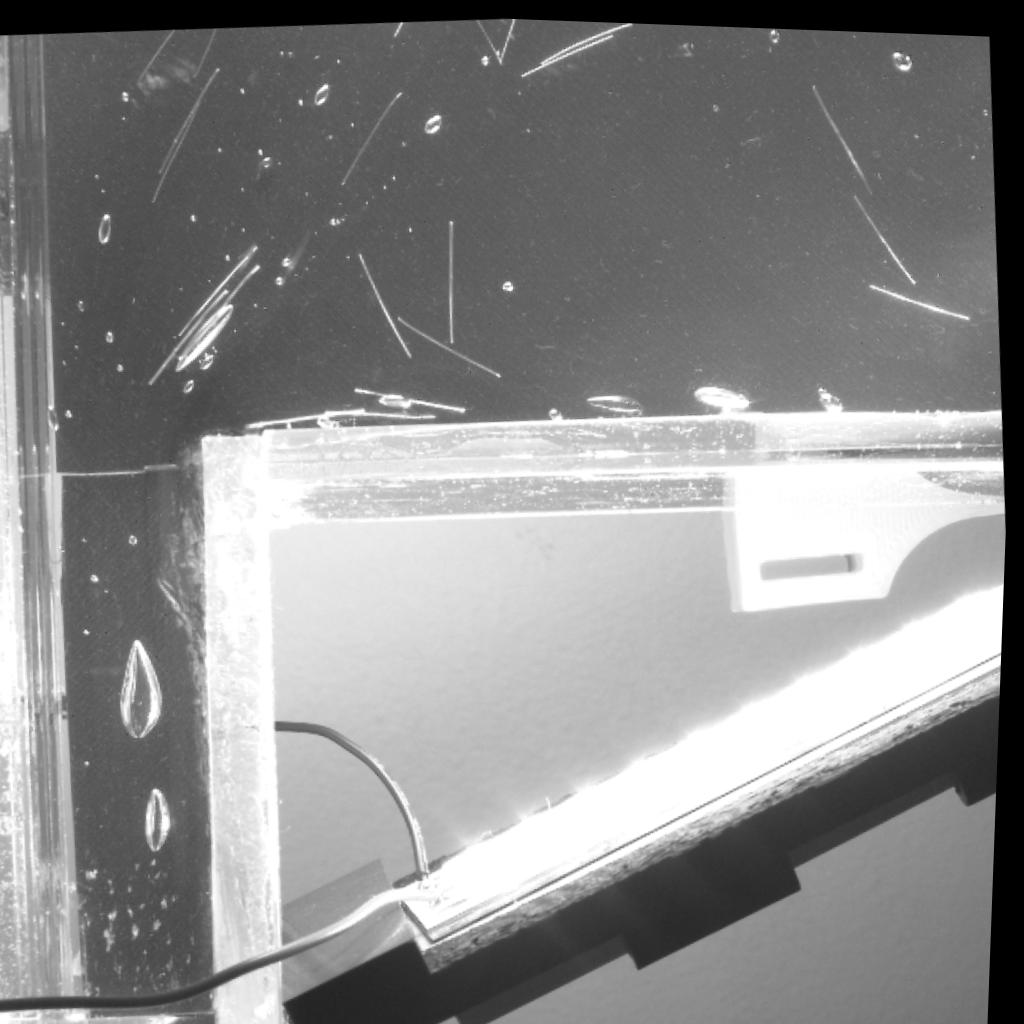Fiber: (145, 284, 235, 388), (805, 72, 879, 190), (177, 238, 263, 337), (179, 260, 264, 360), (396, 309, 509, 379), (849, 183, 926, 282), (337, 83, 408, 186), (157, 63, 222, 172), (356, 247, 420, 357), (149, 96, 207, 205), (519, 20, 616, 79), (867, 271, 975, 315), (538, 18, 636, 62), (353, 379, 473, 408), (246, 402, 372, 429), (133, 27, 181, 82), (187, 25, 222, 85), (471, 15, 506, 70), (447, 212, 461, 345), (493, 15, 521, 62), (328, 406, 440, 415), (389, 18, 409, 38)
